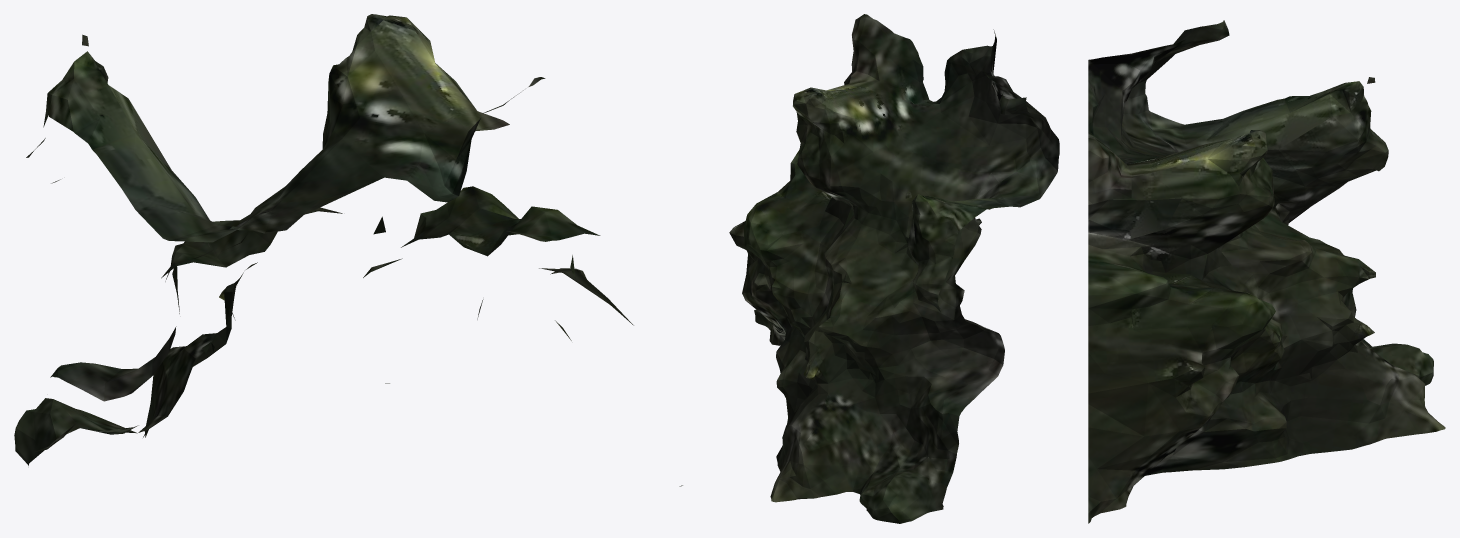
The picture shows the model from 3 angles, left to right: view 1: azimuth 30°, elevation 25°; view 2: azimuth 150°, elevation 25°; view 3: azimuth 270°, elevation 25°; orthographic projection. The views are drawn at different scales.
Bounding box in the file's own units: 1.67 × 1.67 × 1.56.
4 materials, 4 textured.
